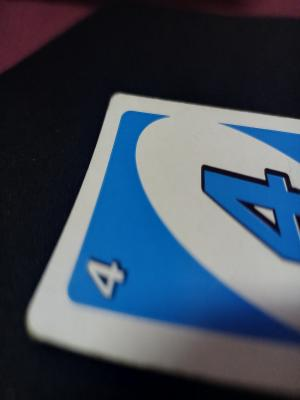blue: (63, 129, 295, 309)
